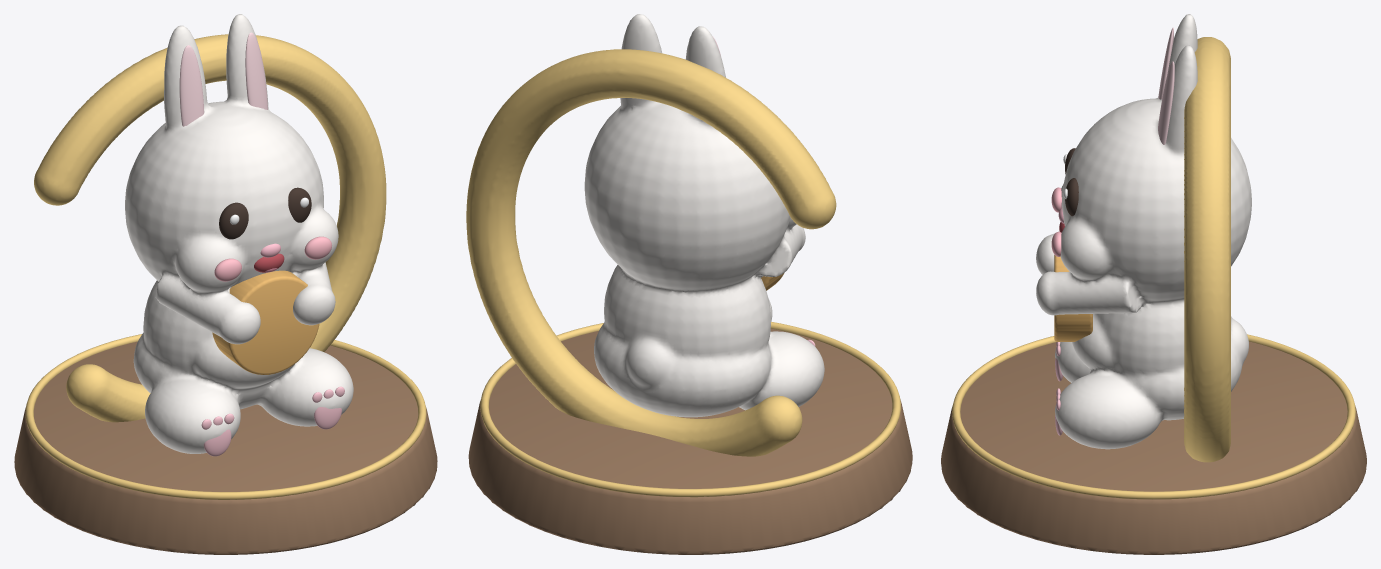
Rendered from yutu_v2.glb.
3 views of the same model, side by side, from view 1: azimuth 30°, elevation 25°; view 2: azimuth 150°, elevation 25°; view 3: azimuth 270°, elevation 25° (orthographic). The views are drawn at different scales.
Parts seen in each view (by area): view 1: 玉兔主体, 底座, 月环, 月饼, 底座金箍, 左耳内耳, 右耳内耳, 眼睛, 眼睛.001; view 2: 玉兔主体, 底座, 月环, 底座金箍; view 3: 底座, 玉兔主体, 月环, 底座金箍, 月饼, 右耳内耳.
Boxes of the visible parts, bbox=[...] form: 玉兔主体: bbox=[125, 14, 353, 453]; 底座: bbox=[14, 341, 437, 554]; 月环: bbox=[34, 34, 386, 422]; 月饼: bbox=[212, 270, 319, 374]; 底座金箍: bbox=[25, 334, 426, 499]; 左耳内耳: bbox=[179, 45, 204, 126]; 右耳内耳: bbox=[245, 32, 267, 109]; 眼睛: bbox=[219, 202, 248, 239]; 眼睛.001: bbox=[288, 187, 311, 222]; 玉兔主体: bbox=[584, 14, 824, 417]; 底座: bbox=[468, 328, 912, 554]; 月环: bbox=[466, 49, 836, 456]; 底座金箍: bbox=[480, 322, 900, 497]; 底座: bbox=[941, 341, 1366, 554]; 玉兔主体: bbox=[1036, 14, 1251, 449]; 月环: bbox=[1184, 37, 1230, 462]; 底座金箍: bbox=[952, 334, 1355, 499]; 月饼: bbox=[1054, 255, 1092, 341]; 右耳内耳: bbox=[1158, 61, 1174, 144].
Size of what is drawn, in the model's own units: 71.64 by 81.15 by 71.5.
